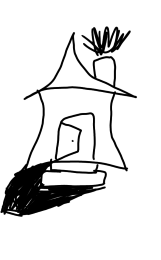door: (51, 109, 103, 168)
shadow: (3, 162, 110, 219)
single_line_roof: (26, 34, 141, 98)
smoking_chimney: (82, 19, 136, 86)
wall: (24, 90, 131, 175)
